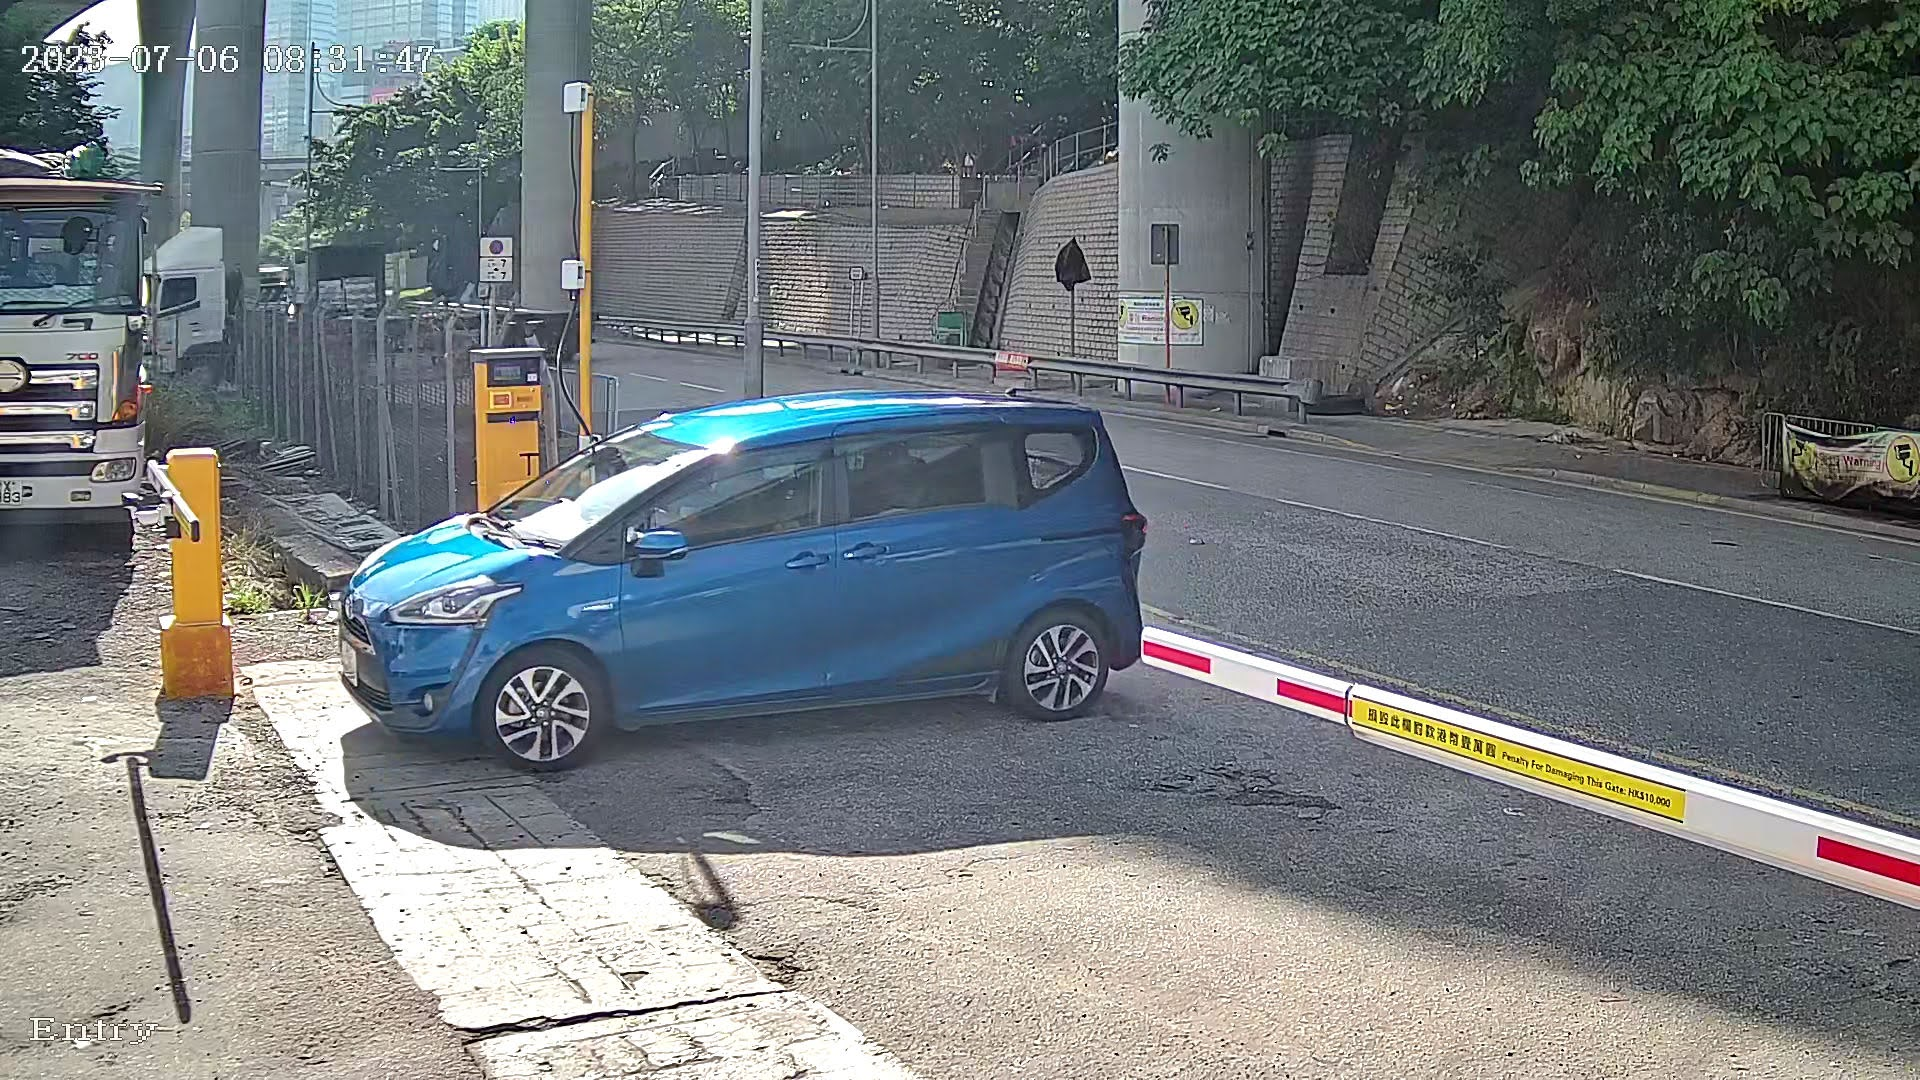privatecar: (290, 348, 1189, 823)
